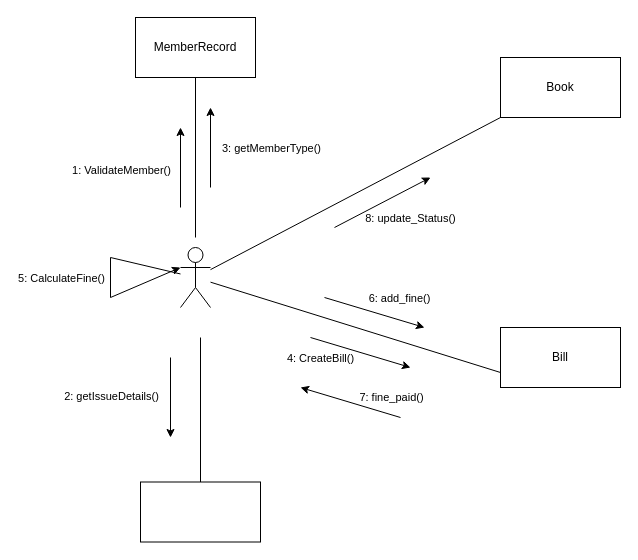
This 638x560 diagram has some shape labels left out. The box of each missing label's shape, as (x1, y1, x2, y2) in pixels:
Librarian: (180, 246, 210, 308)
Transaction: (140, 481, 260, 542)
